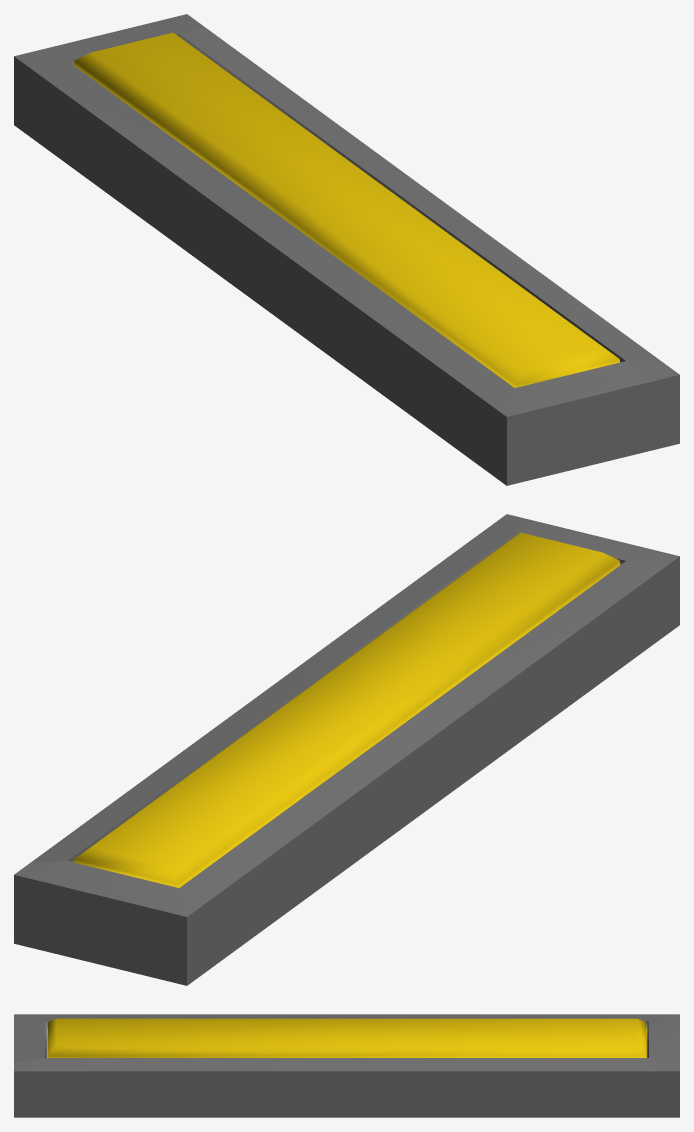
Rendered from wallLight.fbx.
The picture shows the model from 3 angles, top to bottom: view 1: azimuth 30°, elevation 25°; view 2: azimuth 150°, elevation 25°; view 3: azimuth 270°, elevation 25°; orthographic projection. The views are drawn at different scales.
Visible parts, largest first — view 1: walllight; view 2: walllight; view 3: walllight.
Boxes of the visible parts, x1,y1,x2,y2 form: walllight: (14,14,679,485); walllight: (14,514,679,985); walllight: (14,1014,679,1117).
Size of the model in its own units: 6.53 by 3.05 by 32.2.
